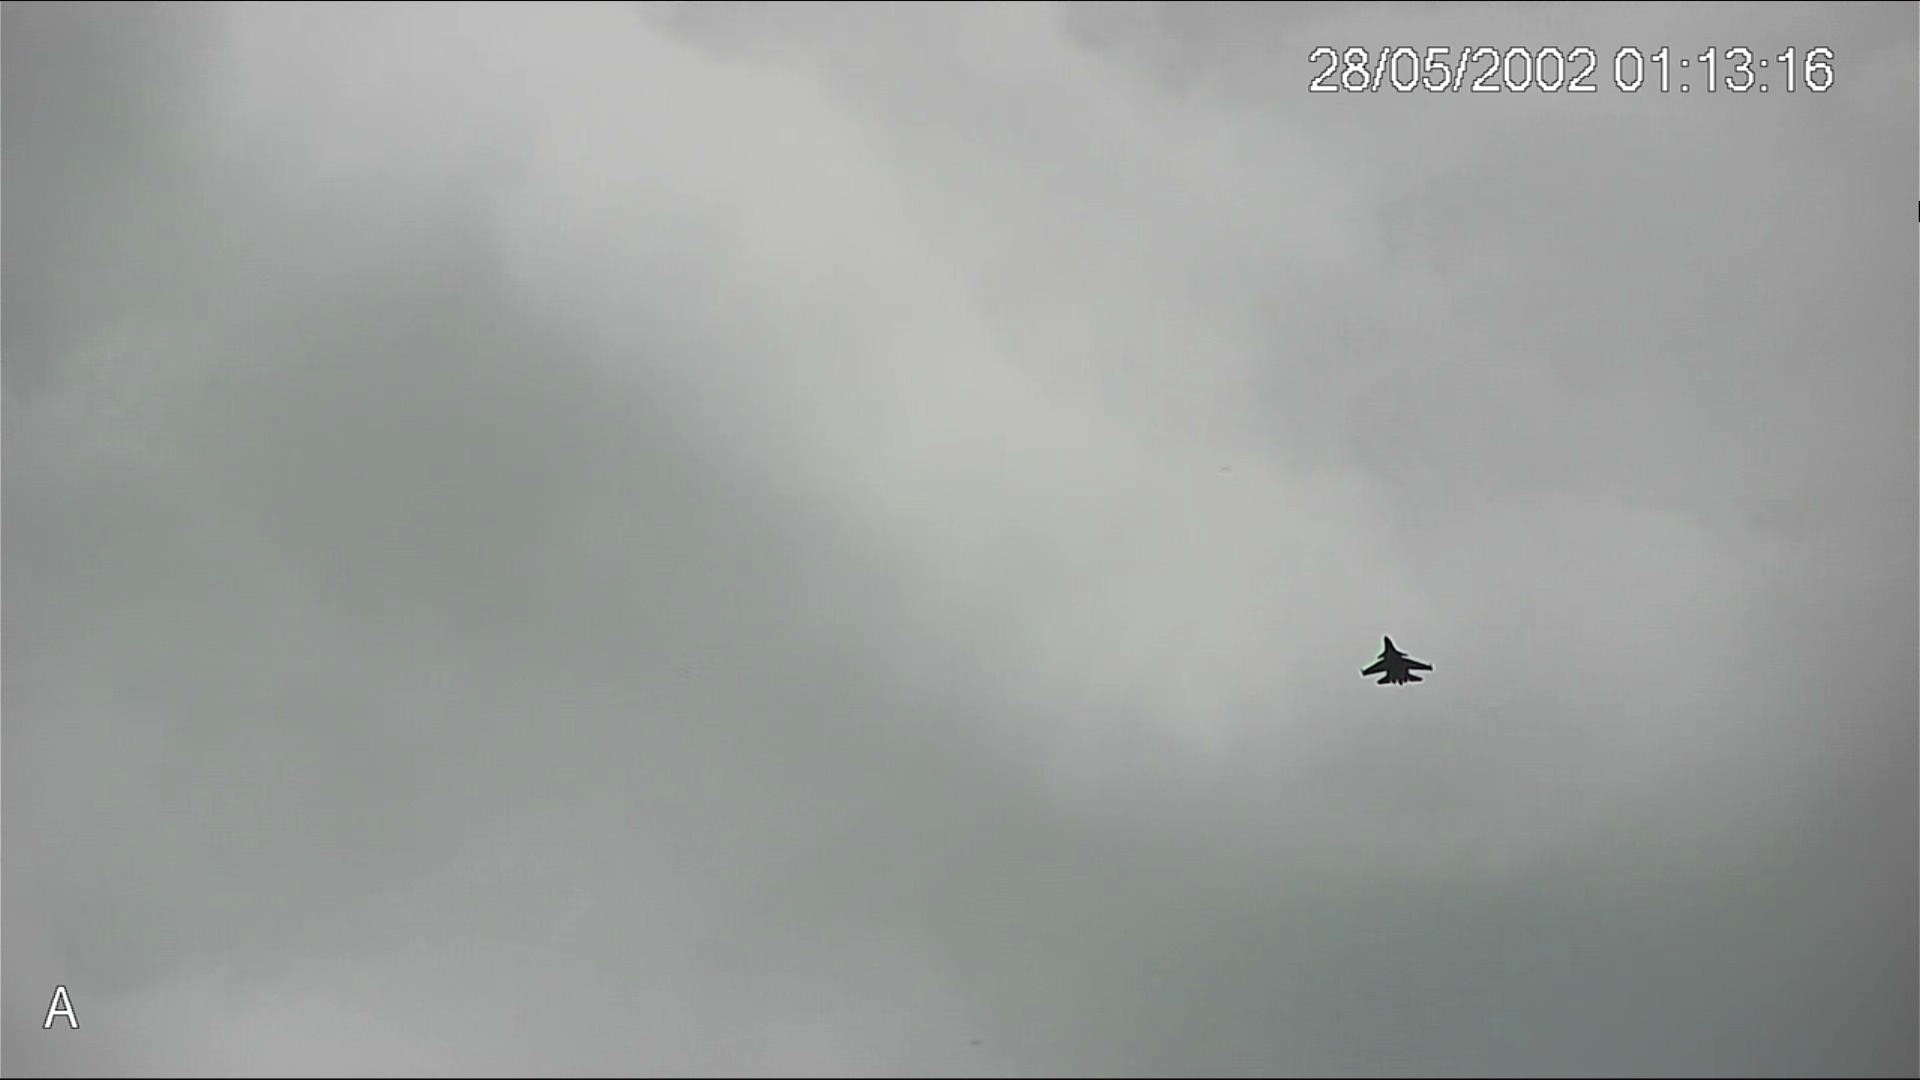SU_30: (1356, 632, 1440, 691)
